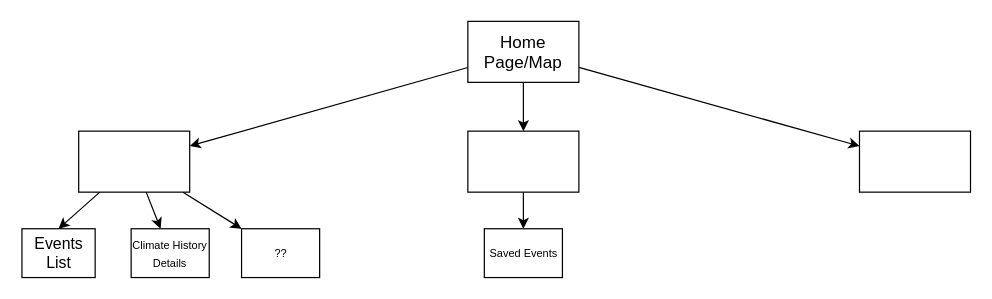
Some shapes in this 992 by 299 pixel diagram are drawn without their labels. Here are the shapes that lost their labels. From the top down, the box of each, then its label:
(77, 130, 190, 192): Location Climate Details
(467, 130, 579, 192): User Profile
(858, 130, 971, 192): About Us
